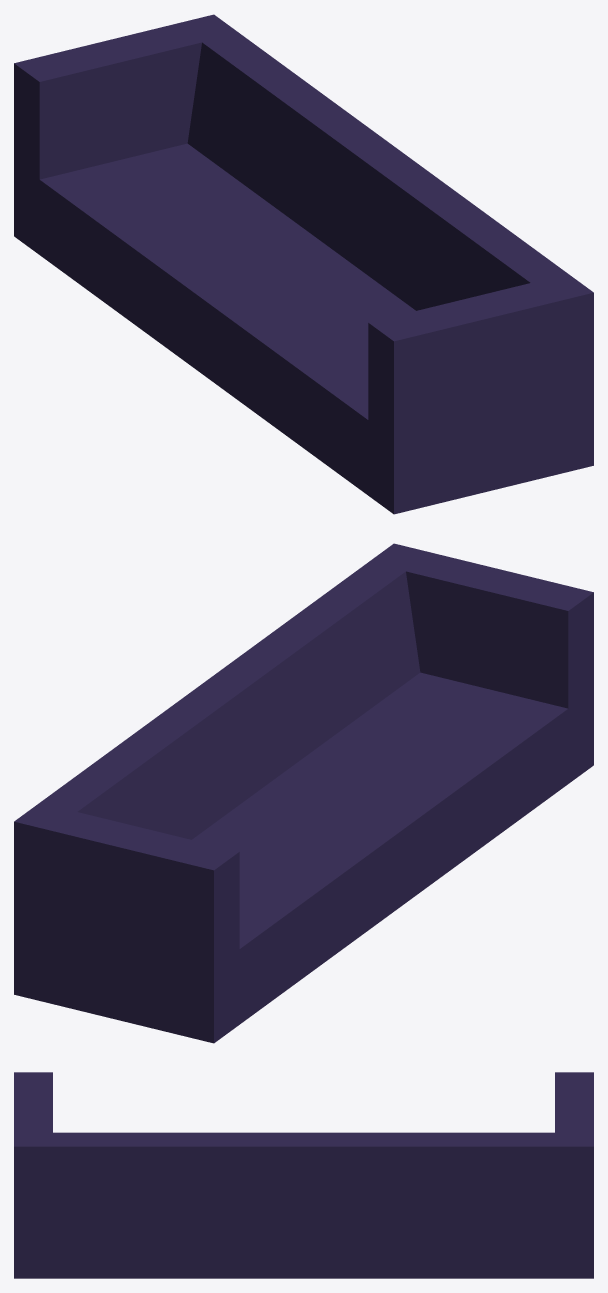
File: LongCouch.fbx
The picture shows the model from 3 angles, top to bottom: view 1: azimuth 30°, elevation 25°; view 2: azimuth 150°, elevation 25°; view 3: azimuth 270°, elevation 25°; orthographic projection. The views are drawn at different scales.
Parts seen in each view (by area): view 1: Box013; view 2: Box013; view 3: Box013.
Boxes of the visible parts, x1,y1,x2,y2 form: Box013: (14, 14, 593, 514); Box013: (14, 543, 593, 1043); Box013: (14, 1072, 593, 1278).
Size of the model in its own units: 53.95 by 44.61 by 178.
